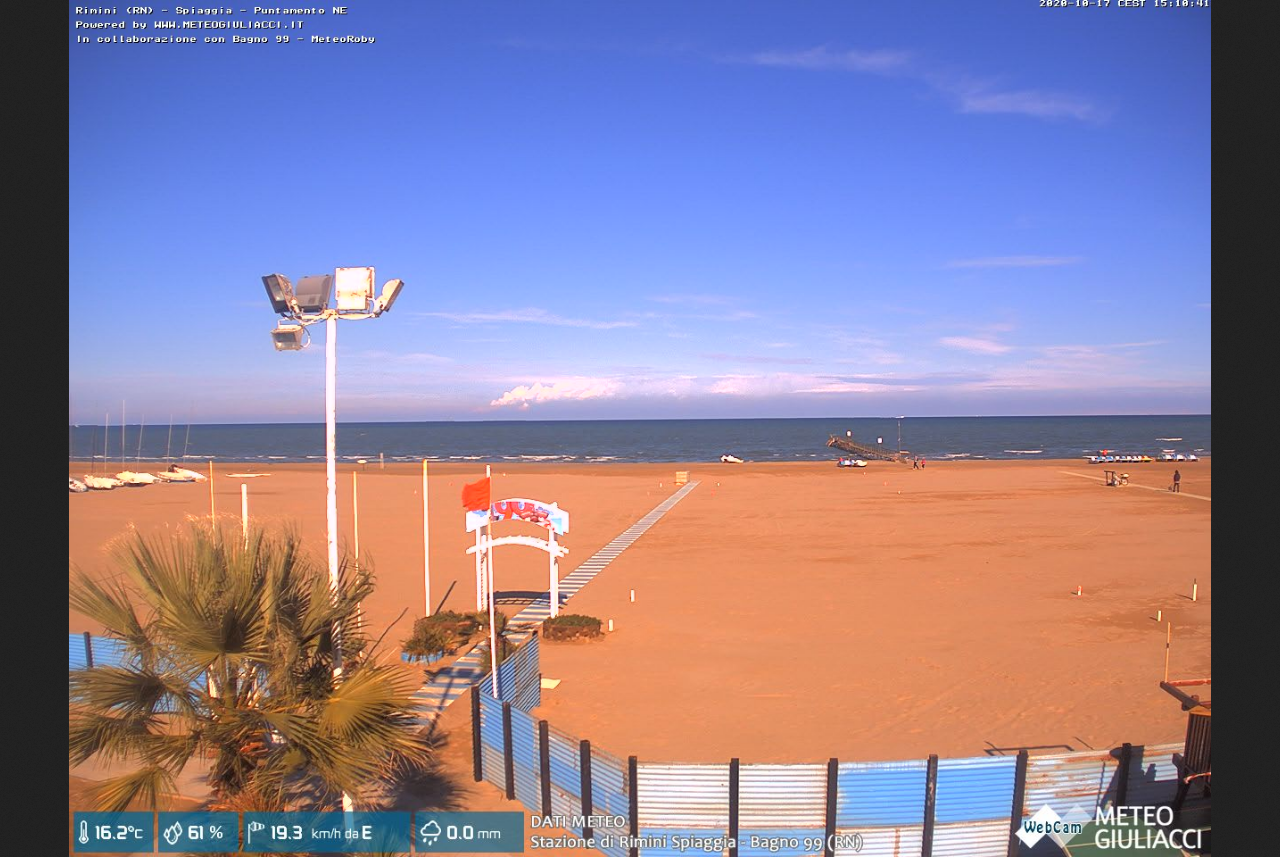yes: (460, 470, 495, 517)
